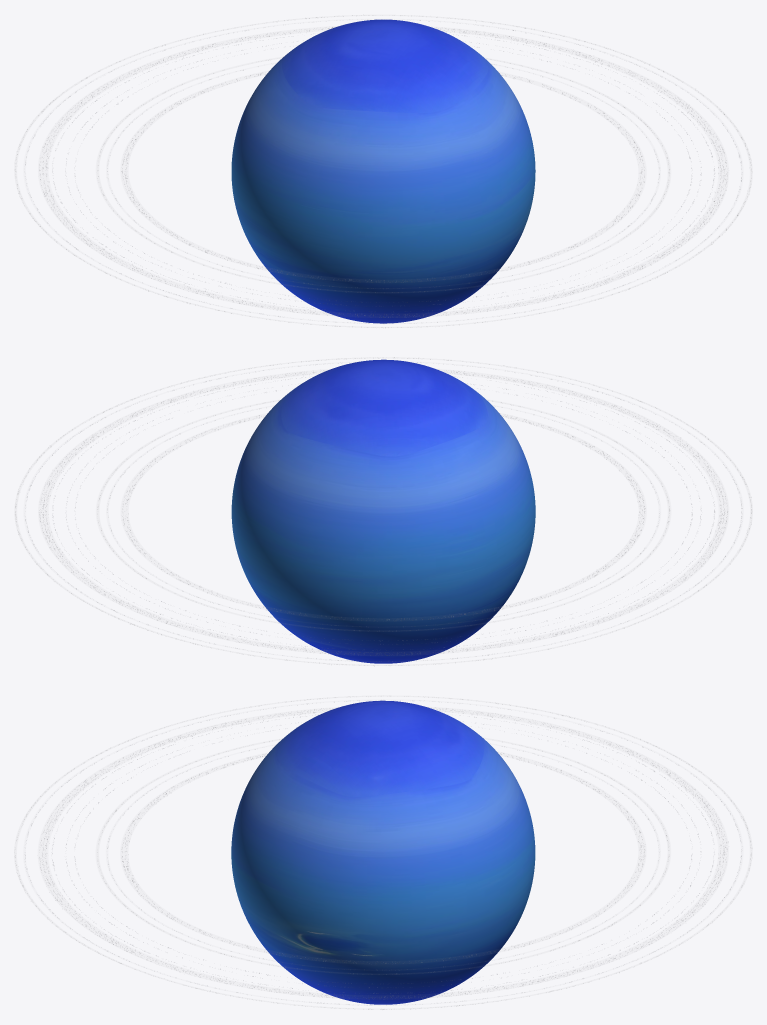
The model's file is neptunus.glb.
3 views of the same model, one above another, from view 1: azimuth 30°, elevation 25°; view 2: azimuth 150°, elevation 25°; view 3: azimuth 270°, elevation 25° (orthographic).
Visible parts, largest first — view 1: core, ringdust; view 2: core, ringdust; view 3: core, ringdust.
Part boxes in pixels (left/top/right/bottom): core: left=231, top=19, right=535, bottom=323; ringdust: left=15, top=15, right=749, bottom=325; core: left=231, top=359, right=535, bottom=663; ringdust: left=15, top=357, right=751, bottom=664; core: left=231, top=700, right=535, bottom=1004; ringdust: left=15, top=699, right=750, bottom=1009.
Size of the model in its own units: 4.86 by 2 by 4.86.
3 materials, 3 textured.
